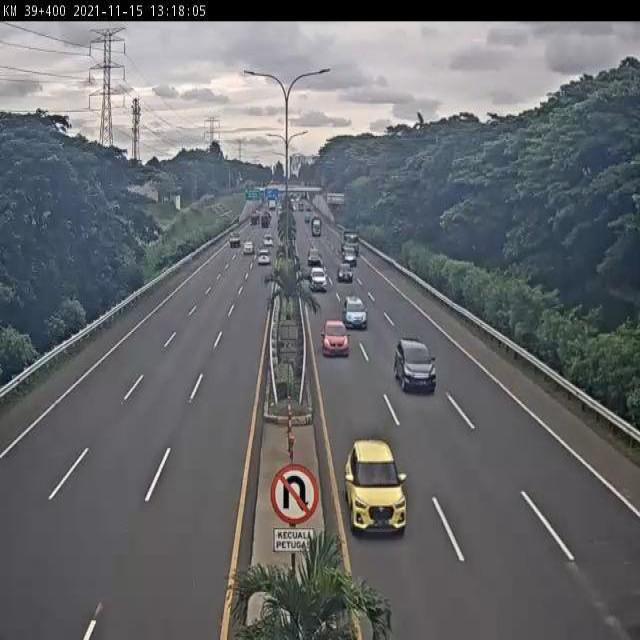ARABA: (344, 439, 407, 533), (393, 336, 438, 392), (319, 318, 352, 362), (340, 292, 370, 333), (307, 264, 328, 291), (336, 261, 353, 283)
